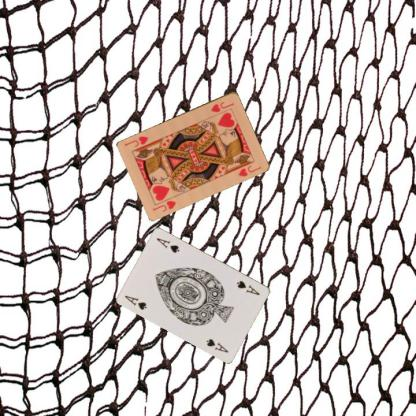As: (235, 278, 261, 296), (122, 293, 148, 311)
Jh: (150, 198, 177, 212), (209, 99, 235, 113)
